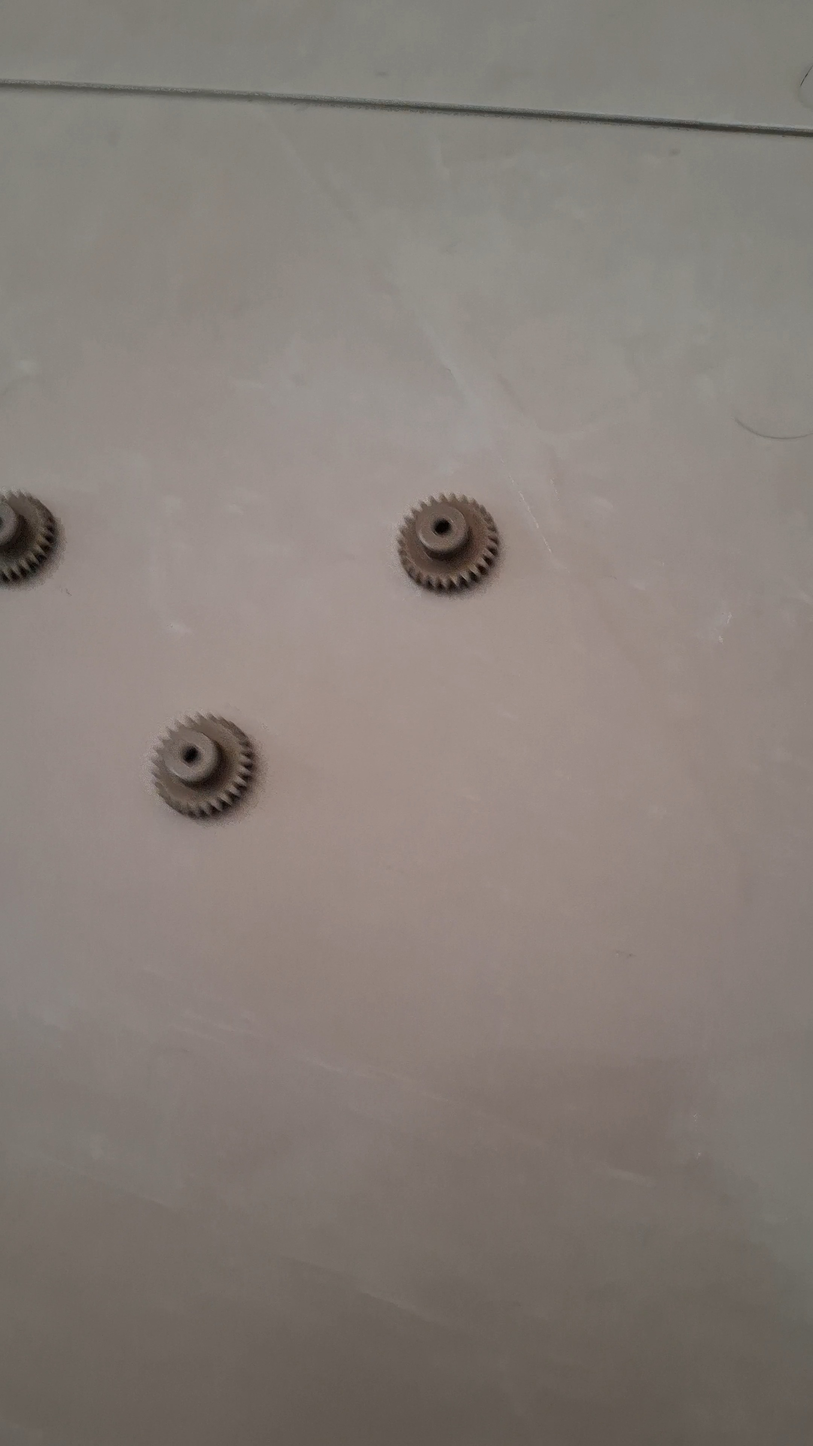spur gear: (153, 715, 254, 817), (398, 495, 499, 591), (0, 493, 56, 583)
